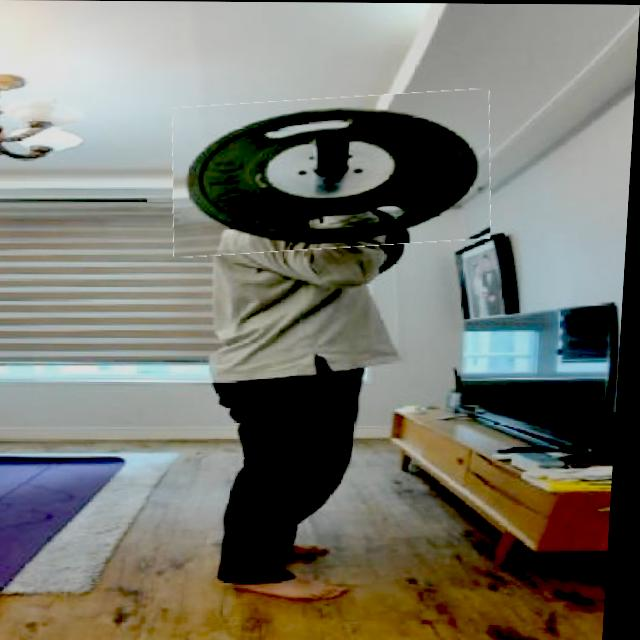barbell: (170, 93, 498, 255)
